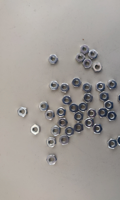nut: (108, 139, 118, 150), (107, 111, 117, 122), (93, 124, 103, 135), (31, 125, 41, 136), (18, 107, 28, 118), (39, 101, 49, 112), (45, 110, 55, 121), (57, 107, 67, 118), (74, 123, 84, 134), (84, 119, 95, 129), (87, 109, 97, 120), (104, 100, 114, 111), (107, 80, 118, 90), (93, 62, 103, 73), (47, 155, 57, 165), (47, 138, 57, 148), (59, 136, 69, 146), (58, 118, 68, 128), (51, 126, 61, 136), (98, 108, 108, 118), (76, 53, 86, 63), (80, 44, 90, 54), (89, 49, 99, 59), (83, 58, 93, 68), (50, 81, 60, 91), (72, 78, 82, 88), (60, 83, 70, 93), (62, 96, 72, 106), (83, 83, 93, 93), (99, 92, 109, 102), (84, 93, 94, 103), (78, 102, 88, 112), (74, 113, 84, 123), (70, 104, 80, 114), (49, 54, 58, 64), (97, 82, 106, 92), (66, 127, 73, 136), (117, 136, 120, 146), (119, 94, 120, 104)
